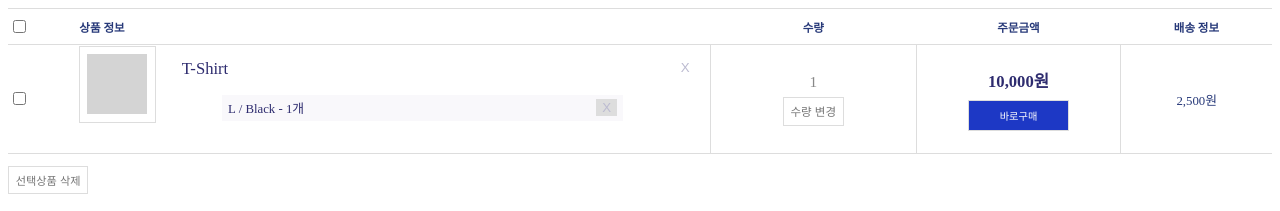
Test: CartItem › 수량 변경 버튼 › 체크박스 › 전체 선택을 체크했을 경우 › 모든 아이템의 체크박스가 선택된 것을 볼 수 있다
Click the checkbox named "전체선택" next to "상품 정보": (20, 26) [13, 20, 26, 33]
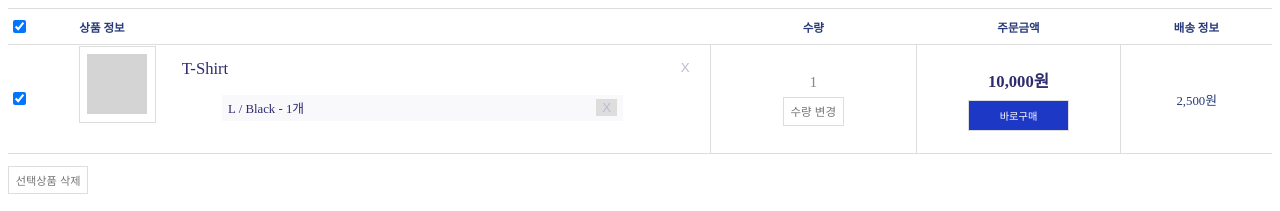
Expected: the checkbox named "전체선택" next to "상품 정보" is checked, [13, 20, 26, 33]
Expected: the checkbox named "T-Shirt" below "T-Shirt" is checked, [13, 92, 26, 105]
